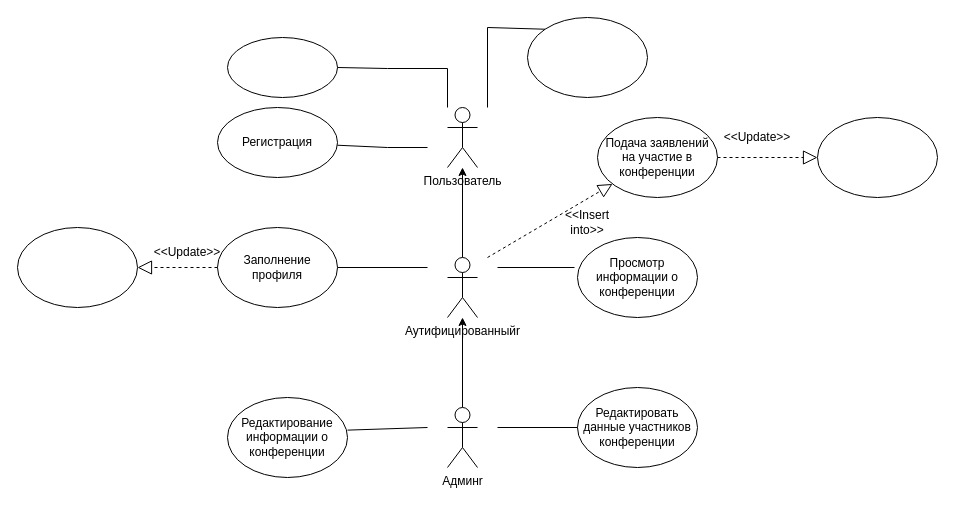
Image size: 955x506. Some labels were removed from this diagram. Here are the shapes that lost their labels. From the top down, the centre of each, then its label:
At point (282, 67): "Вход".
At point (587, 57): "Просмотр итогов конференций".
At point (877, 157): "Изменение информации в случае ошибки".
At point (77, 267): "Изменения данных профиля".
